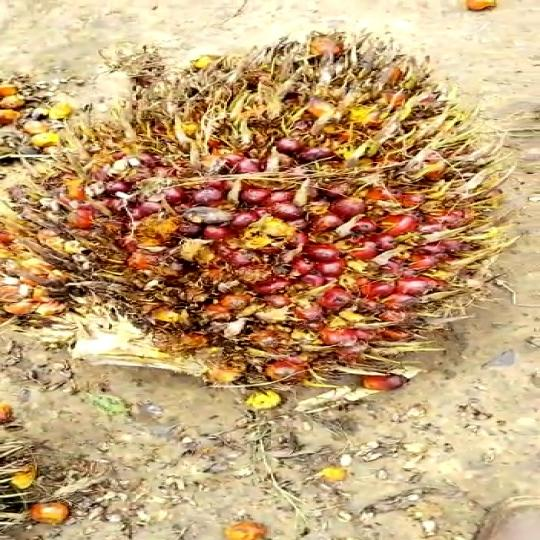masak: (16, 32, 516, 398)
